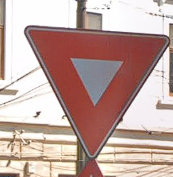cedeaza: (21, 23, 171, 158)
